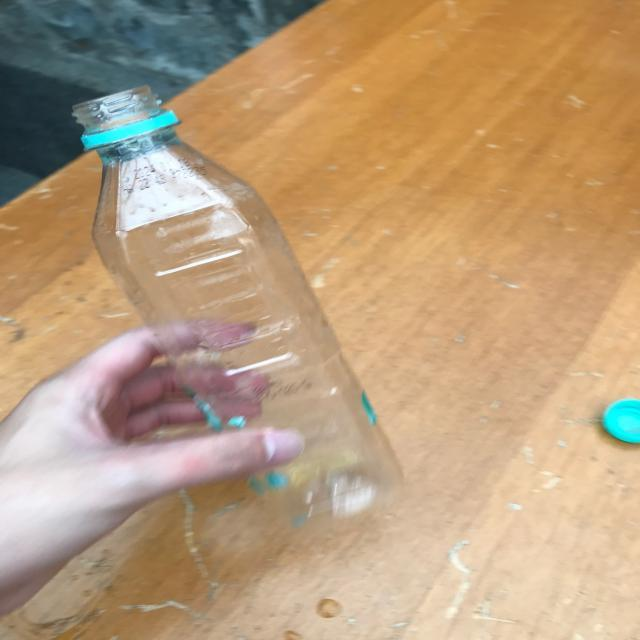plastic_bottle: (71, 84, 404, 533)
